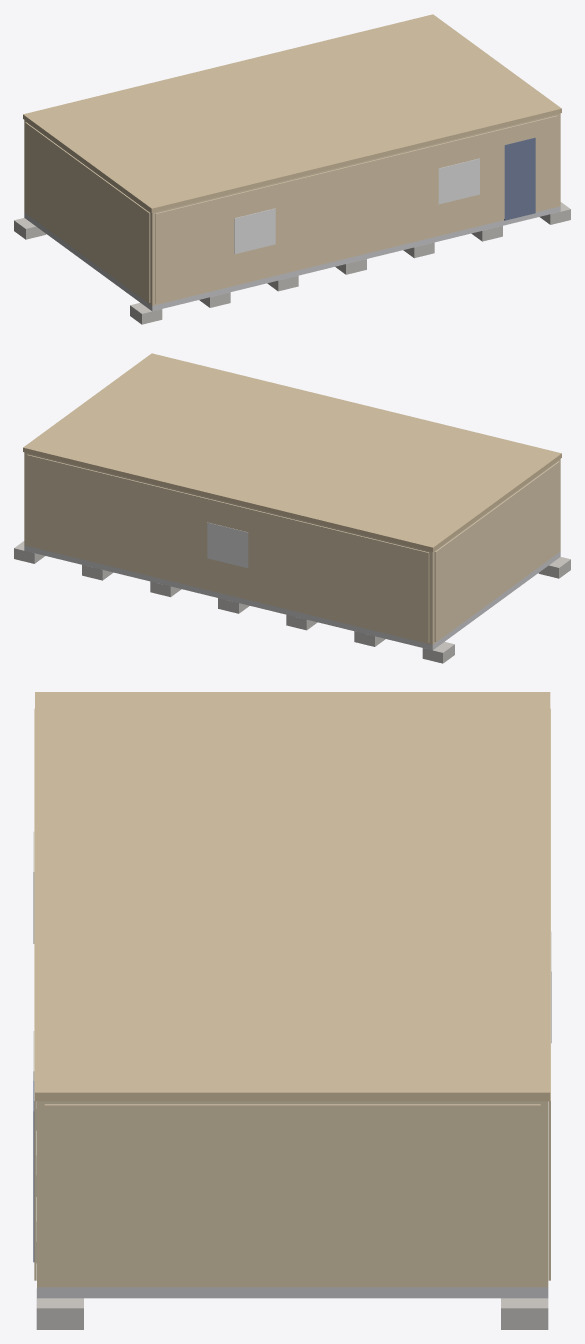
Rendered from Studio-40-Base-LightBrownSand-LOD2.glb.
3 views of the same model, one above another, from view 1: azimuth 30°, elevation 25°; view 2: azimuth 150°, elevation 25°; view 3: azimuth 270°, elevation 25° (orthographic). The views are drawn at different scales.
Visible parts, largest first — view 1: RoofMain, ExteriorPanelsStandard, BaseFrame, WindowsStandard, ExteriorShell, FoundationBlocks, EntryDoor; view 2: RoofMain, ExteriorPanelsStandard, BaseFrame, ExteriorShell, FoundationBlocks, WindowsStandard; view 3: RoofMain, ExteriorPanelsStandard, ExteriorShell, BaseFrame, FoundationBlocks.
Part boxes in pixels (box(x1,y1,x2,y2)): RoofMain: box(23, 14, 561, 212); ExteriorPanelsStandard: box(25, 115, 557, 303); BaseFrame: box(24, 206, 560, 311); WindowsStandard: box(234, 158, 479, 254); ExteriorShell: box(24, 113, 560, 305); FoundationBlocks: box(14, 202, 570, 324); EntryDoor: box(504, 137, 535, 220); RoofMain: box(23, 353, 561, 551); ExteriorPanelsStandard: box(27, 454, 559, 642); BaseFrame: box(24, 545, 560, 650); ExteriorShell: box(24, 452, 560, 644); FoundationBlocks: box(14, 541, 570, 663); WindowsStandard: box(207, 522, 248, 568); RoofMain: box(35, 692, 550, 1101); ExteriorPanelsStandard: box(34, 708, 550, 1284); ExteriorShell: box(37, 1101, 548, 1287); BaseFrame: box(37, 1287, 548, 1298); FoundationBlocks: box(36, 1101, 548, 1329).
Bounding box in the file's own units: 12.49 × 3.17 × 6.53.
